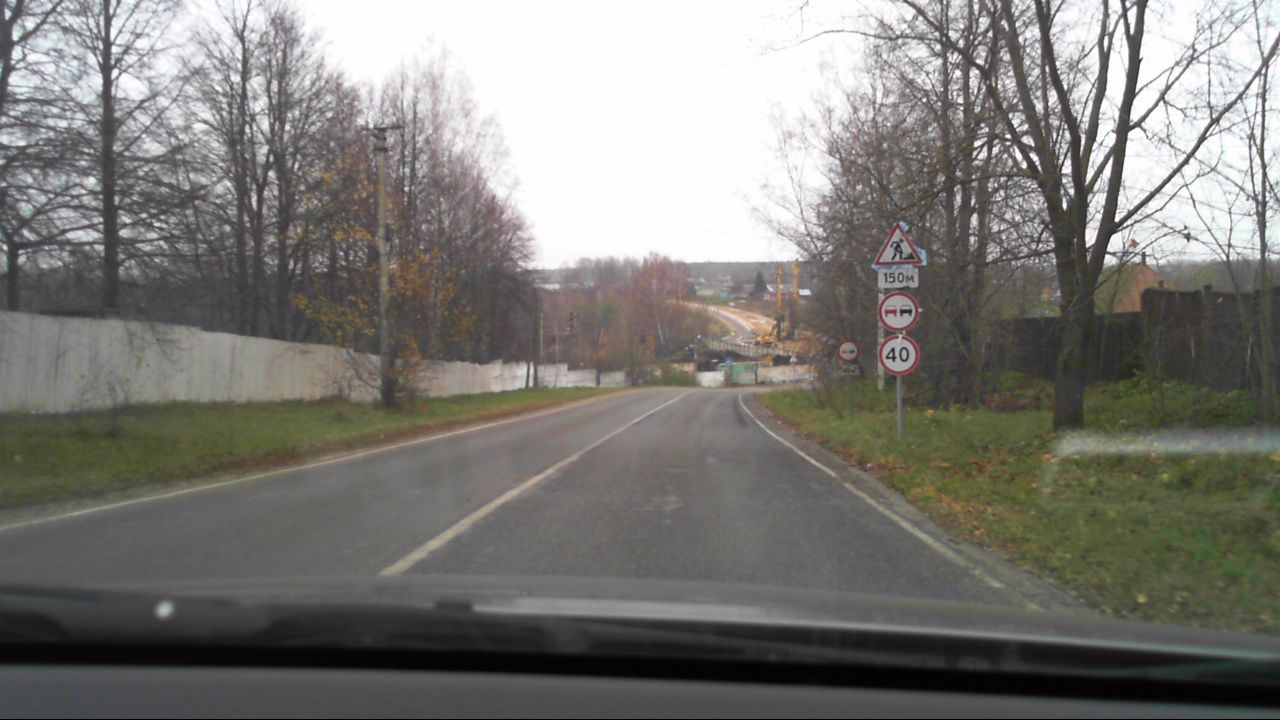speed_warning_40: (878, 334, 917, 374)
